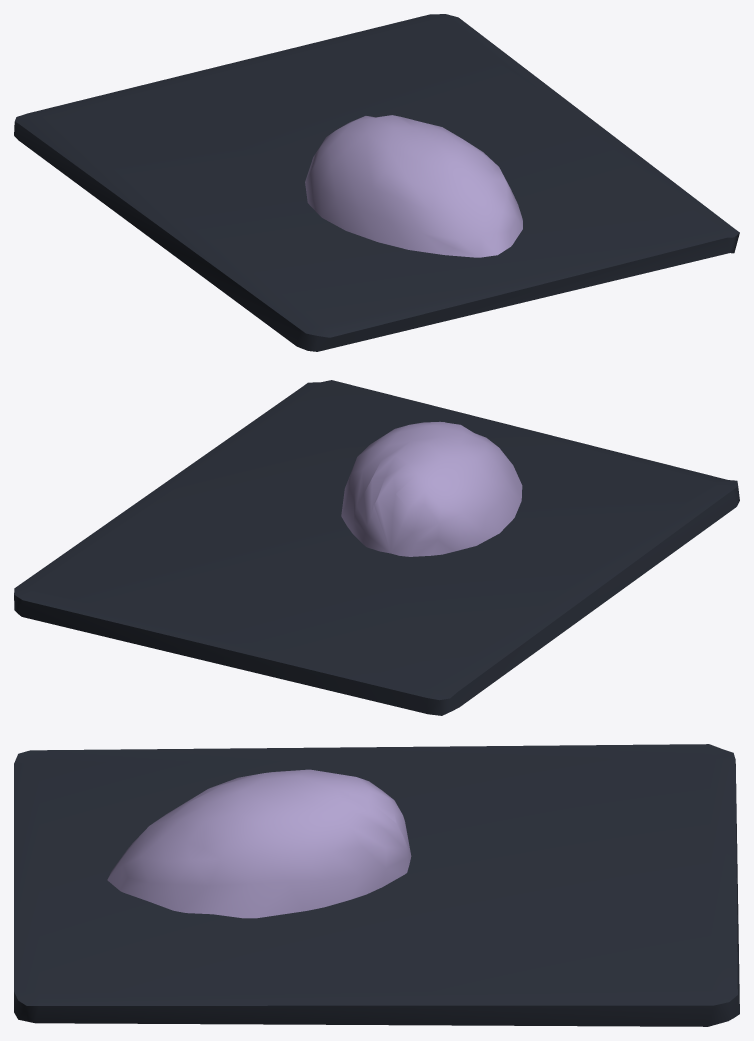
Rendered from gaming_mouse.glb.
3 renders of one model, top to bottom at view 1: azimuth 30°, elevation 25°; view 2: azimuth 150°, elevation 25°; view 3: azimuth 270°, elevation 25°, orthographic. The views are drawn at different scales.
Bounding box in the file's own units: 0.6 × 0.1225 × 0.7131.
